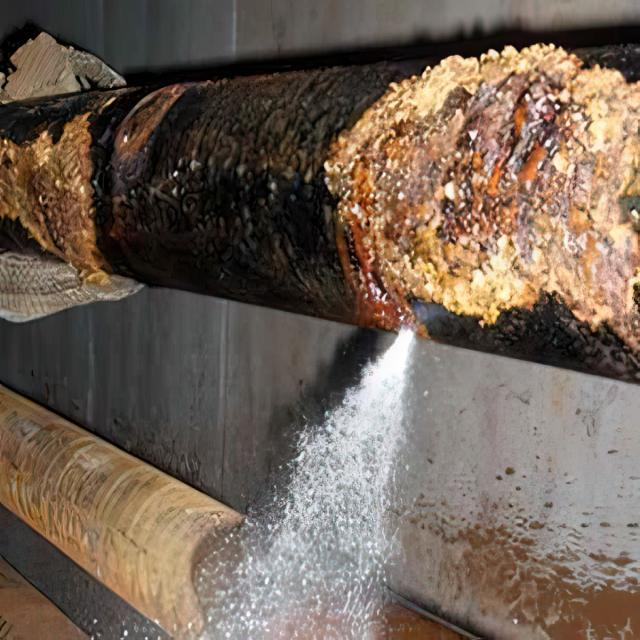leak: (196, 331, 414, 638)
